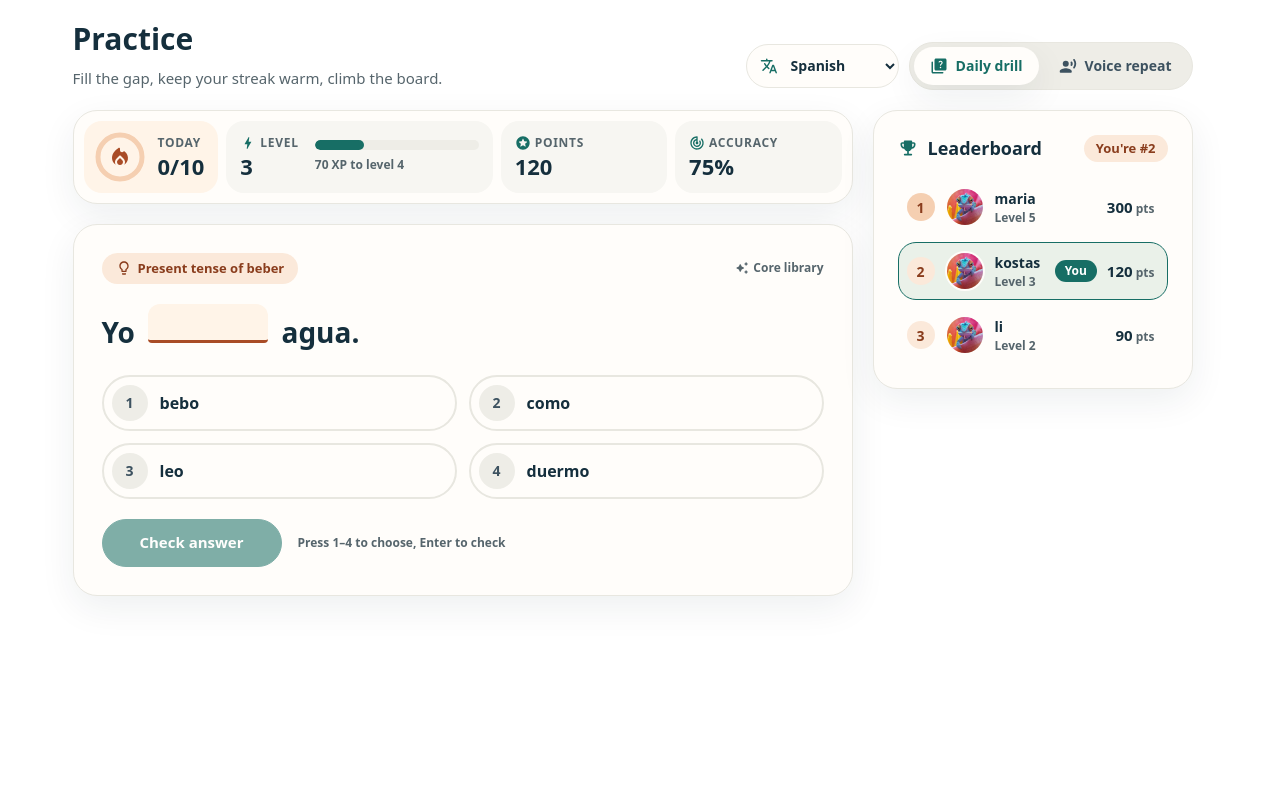
Test: PracticePage › already_scored shows the note and no XP
Expected: the text "Present tense of beber" is shown, [102,252,298,284]
Click the button "1 bebo".
click(130, 403)  # box [102,375,456,431]
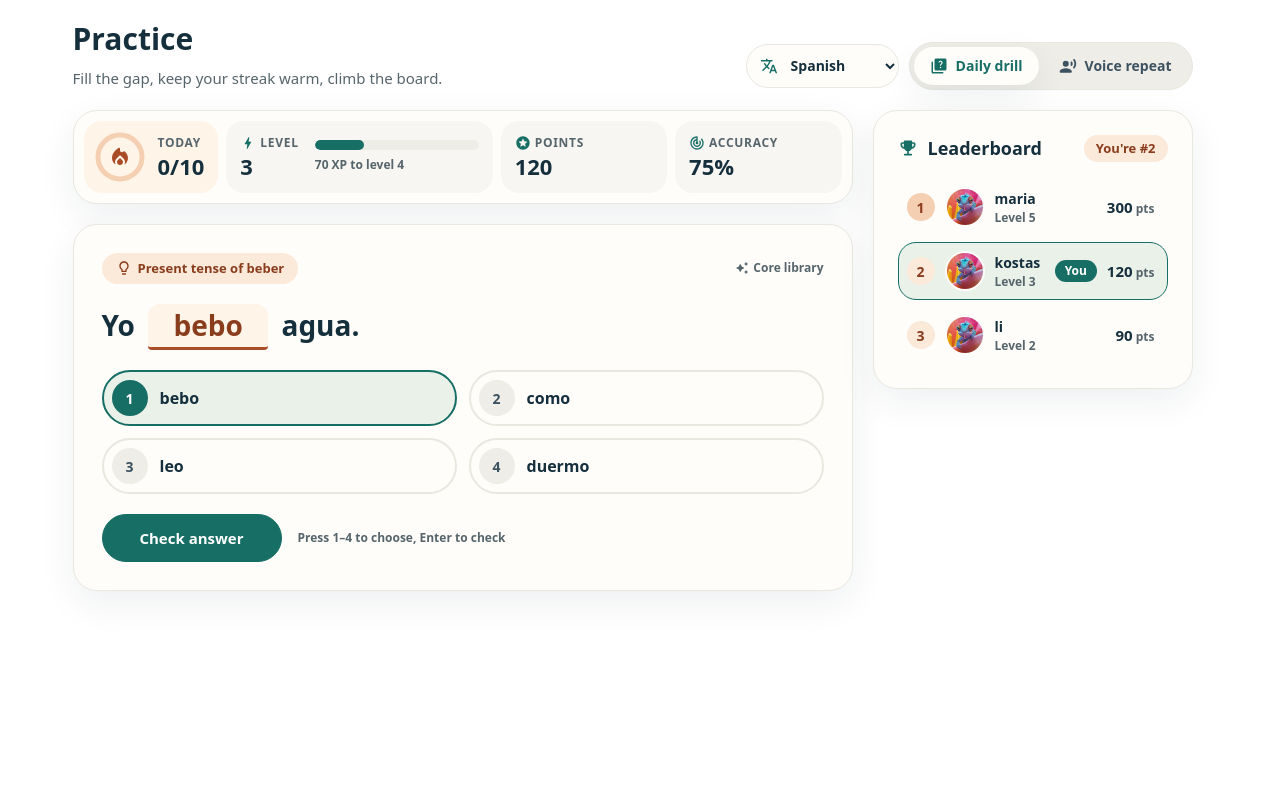
Click the button "Check answer".
click(192, 538)  # box [102,514,282,562]
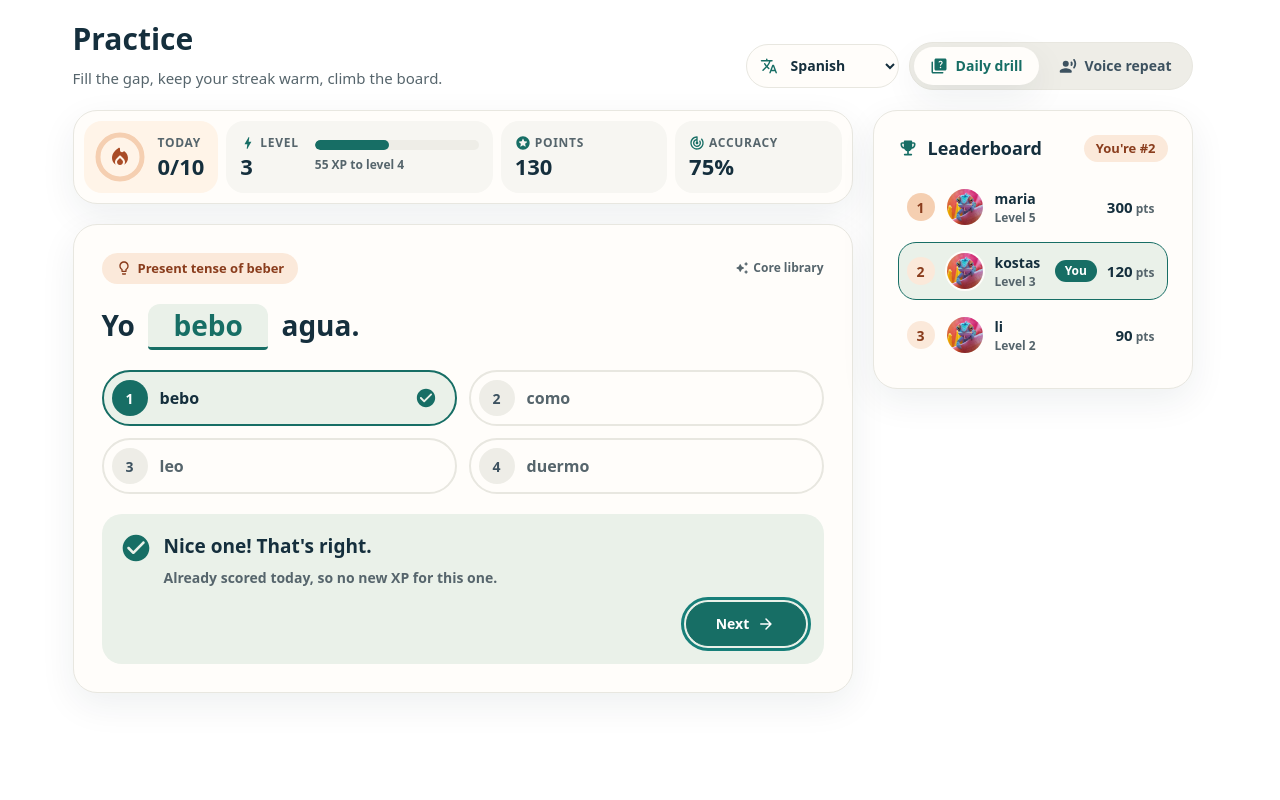
Expected: the text "0/10" is shown, [158,154,204,179]
Expected: the text "Already scored today, so no new XP for this one." is shown, [164,567,497,588]
